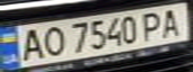0: (118, 12, 142, 45)
4: (103, 15, 127, 47)
5: (87, 17, 109, 51)
7: (66, 20, 90, 53)
A: (15, 25, 48, 61), (157, 6, 187, 38)
O: (36, 24, 69, 57)
P: (136, 10, 169, 42)
